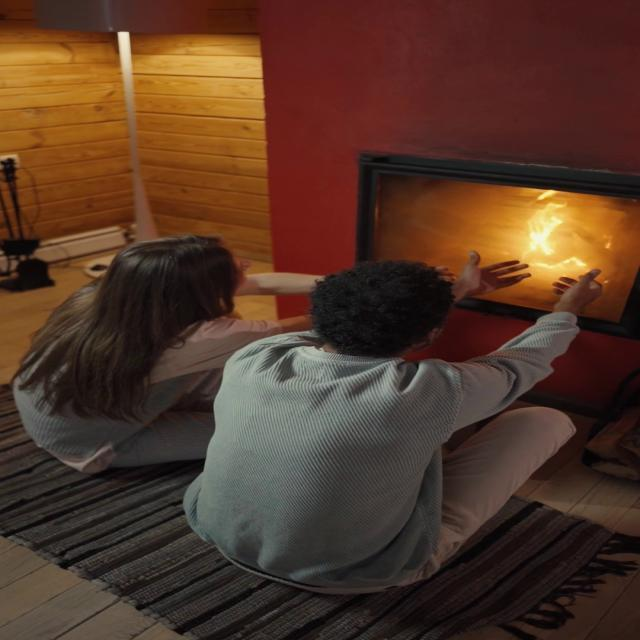Fire: (489, 188, 607, 276)
